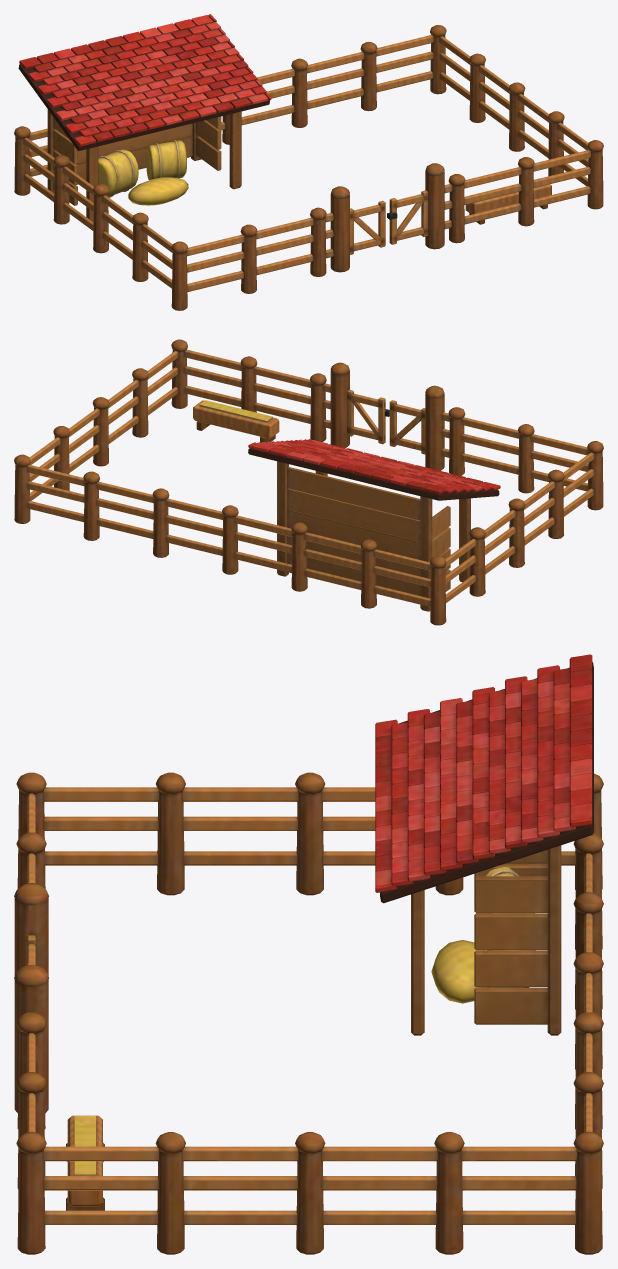
Rendered from llama_ranch.glb.
3 renders of one model, top to bottom at view 1: azimuth 30°, elevation 25°; view 2: azimuth 150°, elevation 25°; view 3: azimuth 270°, elevation 25°, orthographic. The views are drawn at different scales.
Visible parts, largest first — view 1: llama_ranch, gate1, gate0; view 2: llama_ranch, gate1, gate0; view 3: llama_ranch.
Boxes of the visible parts, x1,y1,x2,y2 form: llama_ranch: (14, 14, 603, 310); gate1: (387, 190, 428, 244); gate0: (350, 200, 385, 254); llama_ranch: (14, 339, 603, 625); gate1: (347, 389, 389, 444); gate0: (389, 400, 425, 454); llama_ranch: (14, 654, 603, 1254).
Bounding box in the file's own units: 3 × 0.9343 × 2.01.
1 material, 1 textured.
